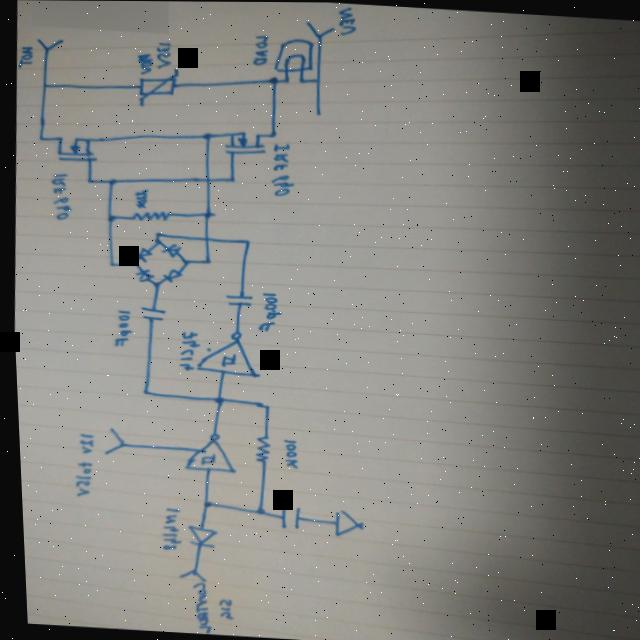capacitor: (269, 502, 299, 531), (136, 304, 164, 323), (221, 292, 250, 307)
crossover: (200, 175, 210, 184), (198, 235, 207, 243)
diode: (178, 522, 212, 550), (157, 243, 179, 258), (159, 268, 179, 283), (131, 268, 151, 283), (130, 247, 150, 262)
ground: (326, 507, 359, 538)
junction: (207, 393, 222, 406), (101, 213, 116, 224), (248, 505, 261, 516), (199, 210, 213, 219), (256, 400, 267, 411), (104, 177, 116, 187), (195, 499, 208, 508), (198, 257, 209, 266), (266, 75, 276, 84), (200, 132, 210, 141), (224, 174, 234, 183), (136, 387, 146, 396), (239, 237, 249, 245), (266, 131, 274, 139), (178, 258, 187, 265), (83, 177, 91, 184), (38, 83, 47, 89), (295, 77, 303, 83), (311, 77, 319, 83), (280, 77, 288, 83), (312, 111, 320, 117), (34, 136, 42, 142), (149, 281, 157, 287), (104, 262, 112, 268), (127, 260, 135, 266), (149, 238, 157, 243), (151, 232, 159, 237)
resistor: (248, 432, 269, 464), (127, 209, 169, 223)
terminal: (98, 425, 121, 457), (303, 20, 334, 38), (33, 37, 64, 52), (169, 567, 201, 581)
text: (66, 432, 91, 497), (267, 142, 294, 197), (182, 581, 210, 634), (45, 172, 71, 221), (153, 504, 179, 552), (253, 291, 280, 332), (173, 330, 197, 371), (109, 310, 130, 347), (335, 5, 358, 36), (275, 438, 296, 469), (249, 33, 268, 67), (153, 41, 171, 70), (210, 597, 230, 620), (134, 52, 152, 75), (16, 46, 33, 69), (131, 187, 146, 208)
transistor: (53, 134, 97, 164), (219, 130, 264, 156)
